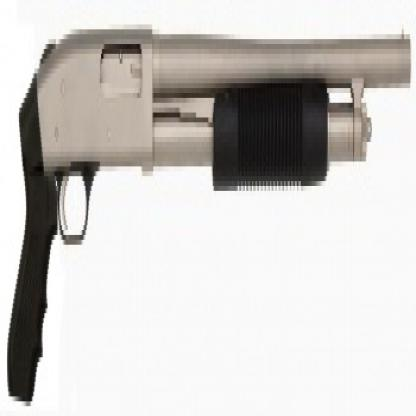Guns: (2, 0, 415, 411)
